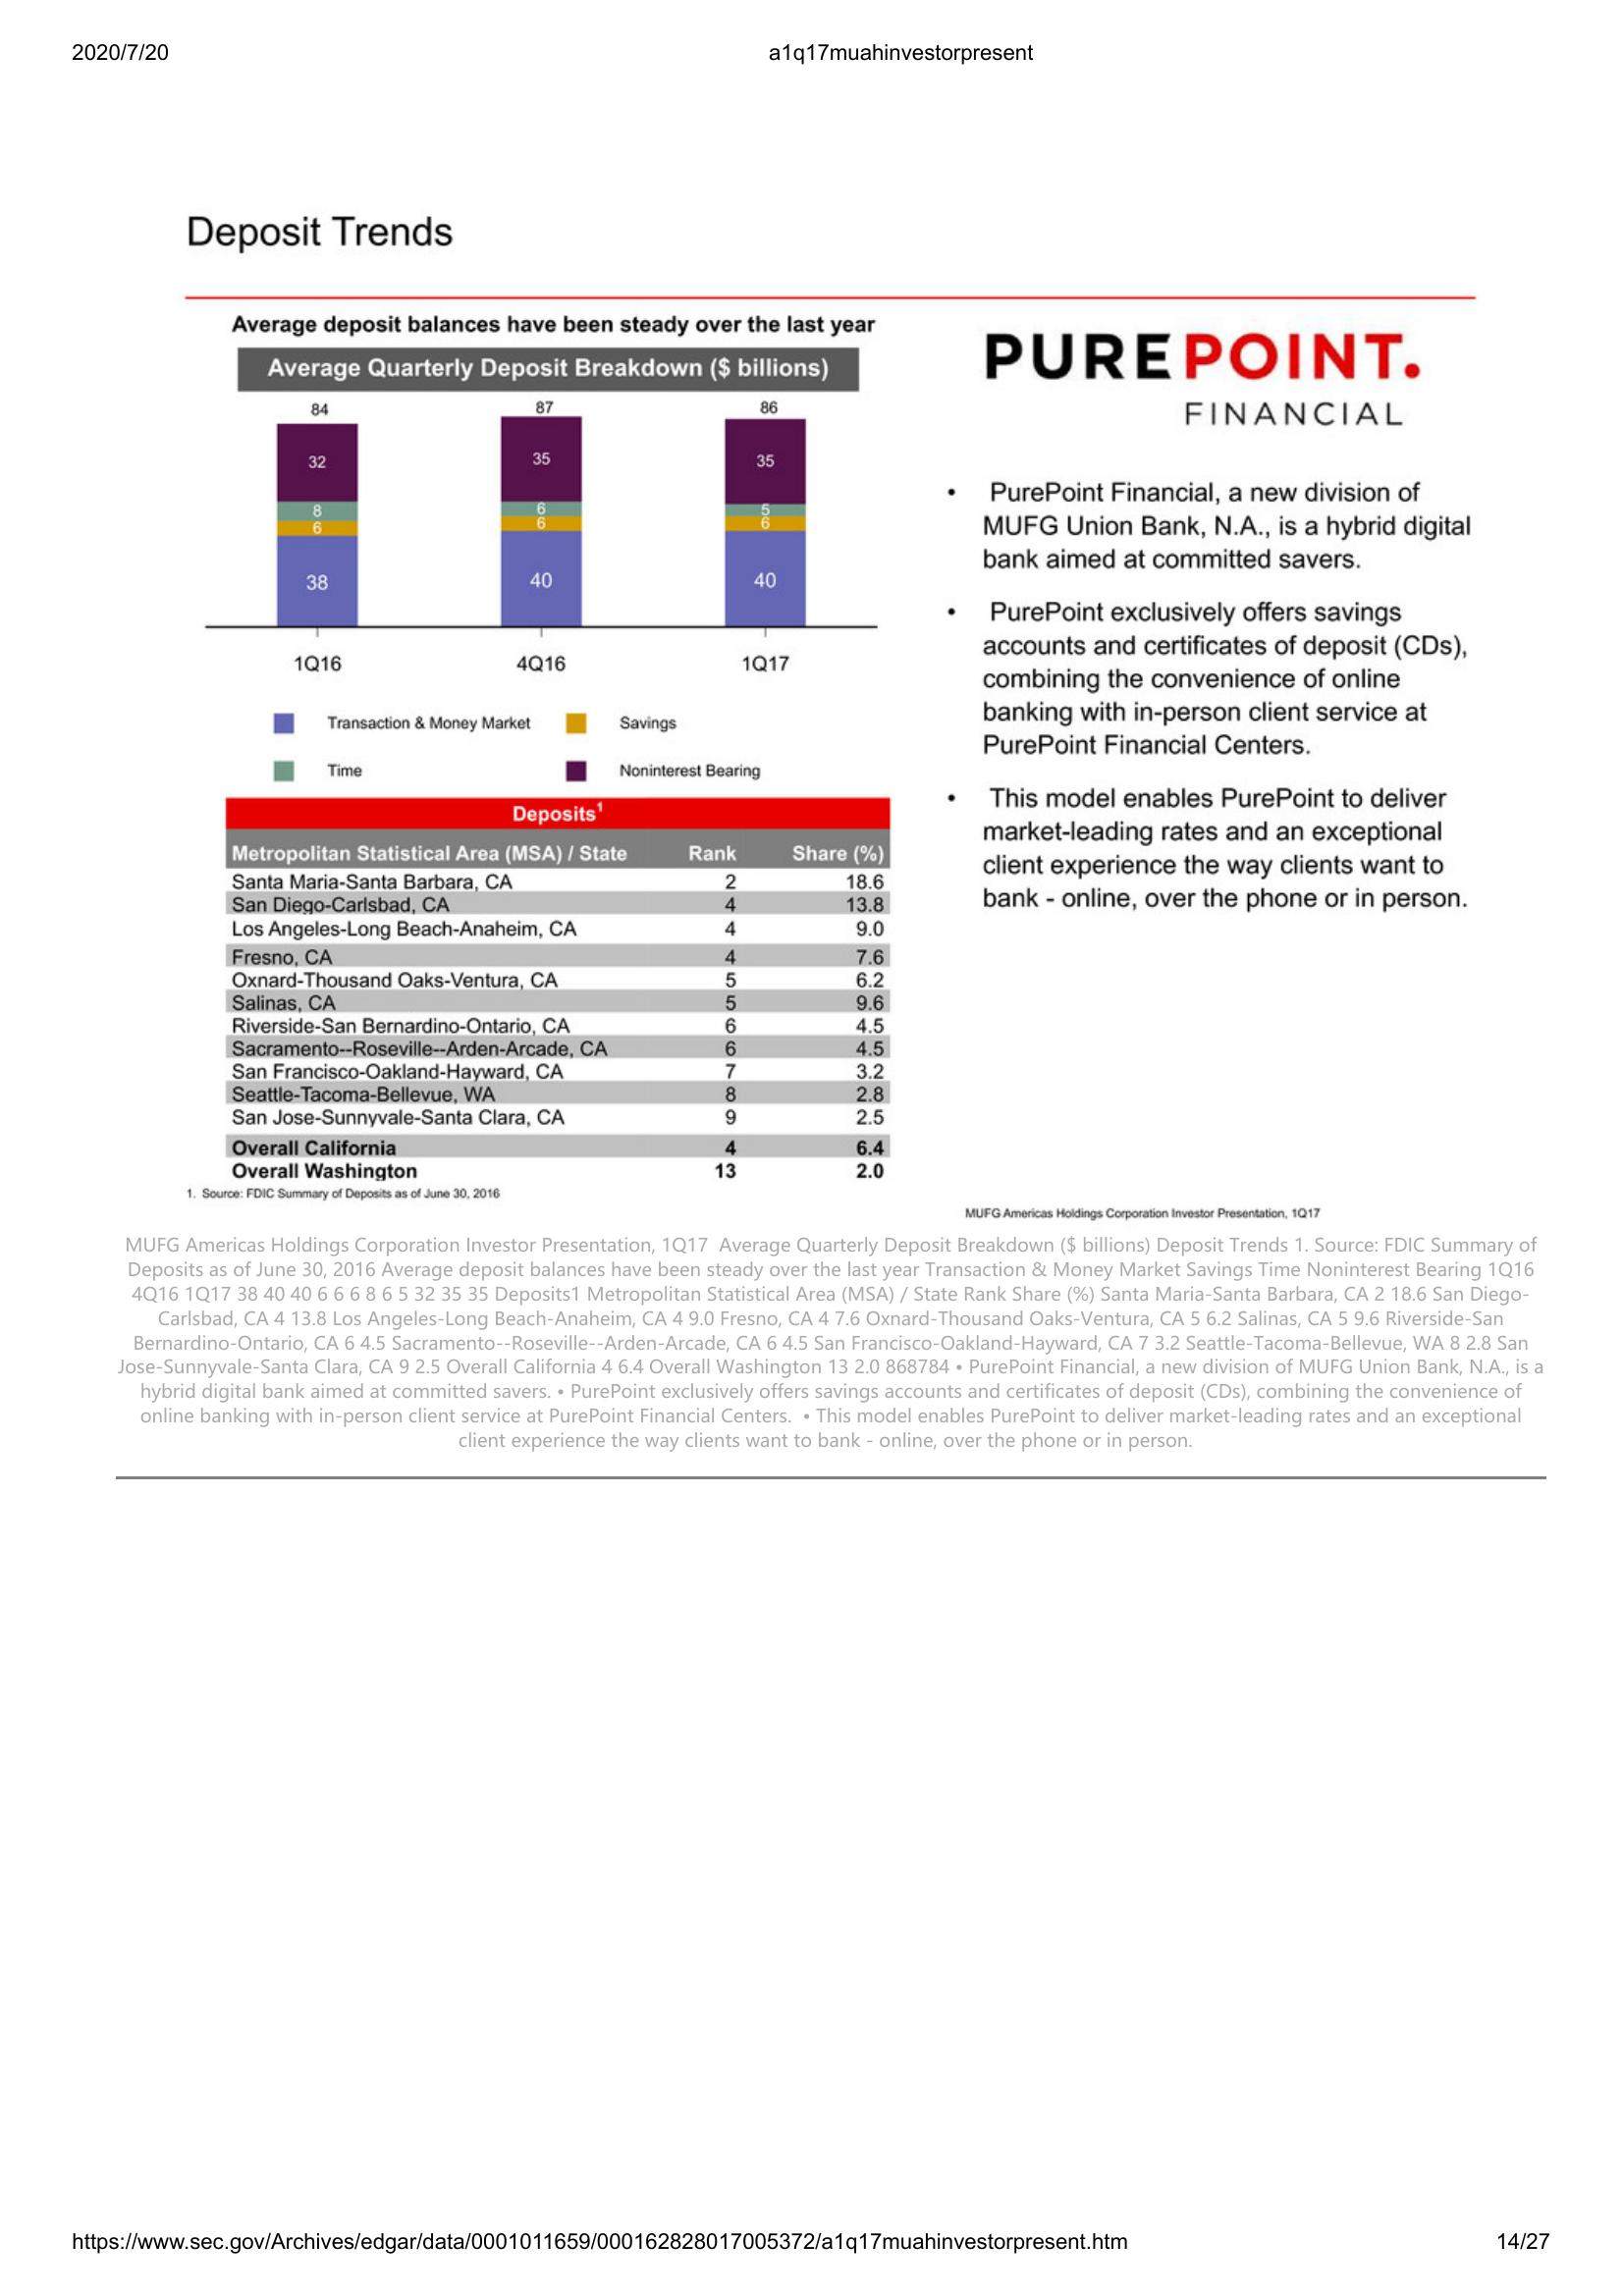table: (220, 785, 903, 1188)
